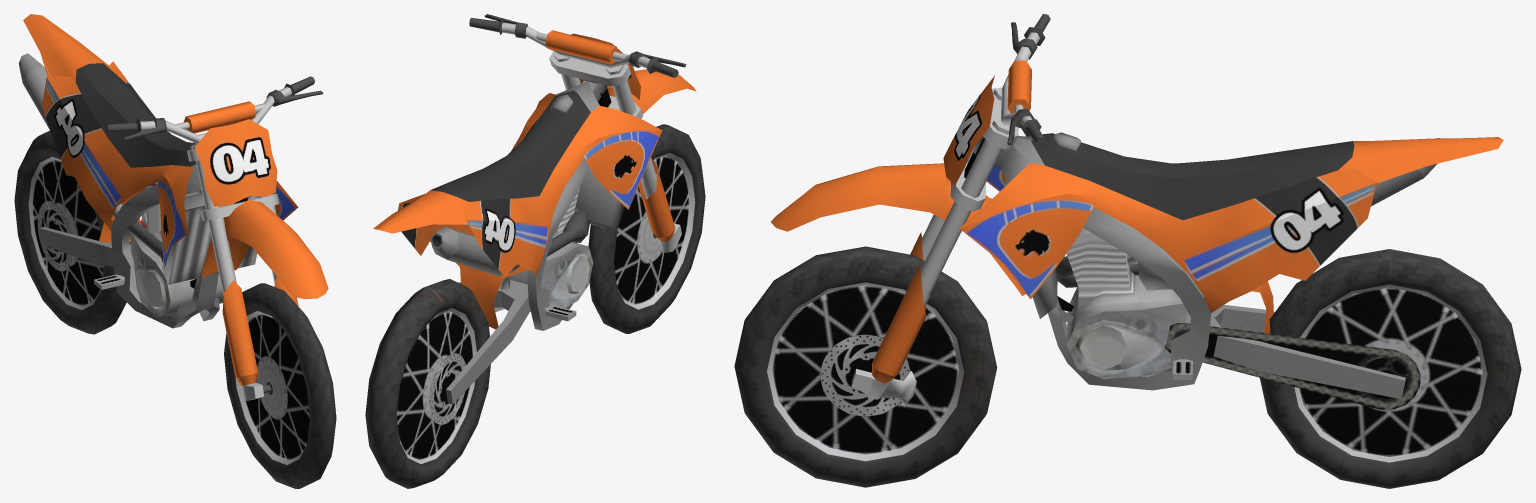
The model's file is dirtbike_orange.glb.
3 renders of one model, left to right at view 1: azimuth 30°, elevation 25°; view 2: azimuth 150°, elevation 25°; view 3: azimuth 270°, elevation 25°, orthographic. The views are drawn at different scales.
Parts seen in each view (by area): view 1: body, wheel_f, wheel_r; view 2: body, wheel_r, wheel_f; view 3: body, wheel_f, wheel_r.
Part boxes in pixels (<box>): body: <box>18,14,328,400</box>; wheel_f: <box>224,283,336,488</box>; wheel_r: <box>14,130,130,334</box>; body: <box>373,14,696,404</box>; wheel_r: <box>365,279,490,488</box>; wheel_f: <box>588,124,705,333</box>; body: <box>771,14,1503,409</box>; wheel_f: <box>734,246,997,487</box>; wheel_r: <box>1260,249,1521,488</box>.
Bounding box in the file's own units: 0.7842 × 1.21 × 2.09.
1 material, 1 textured.
